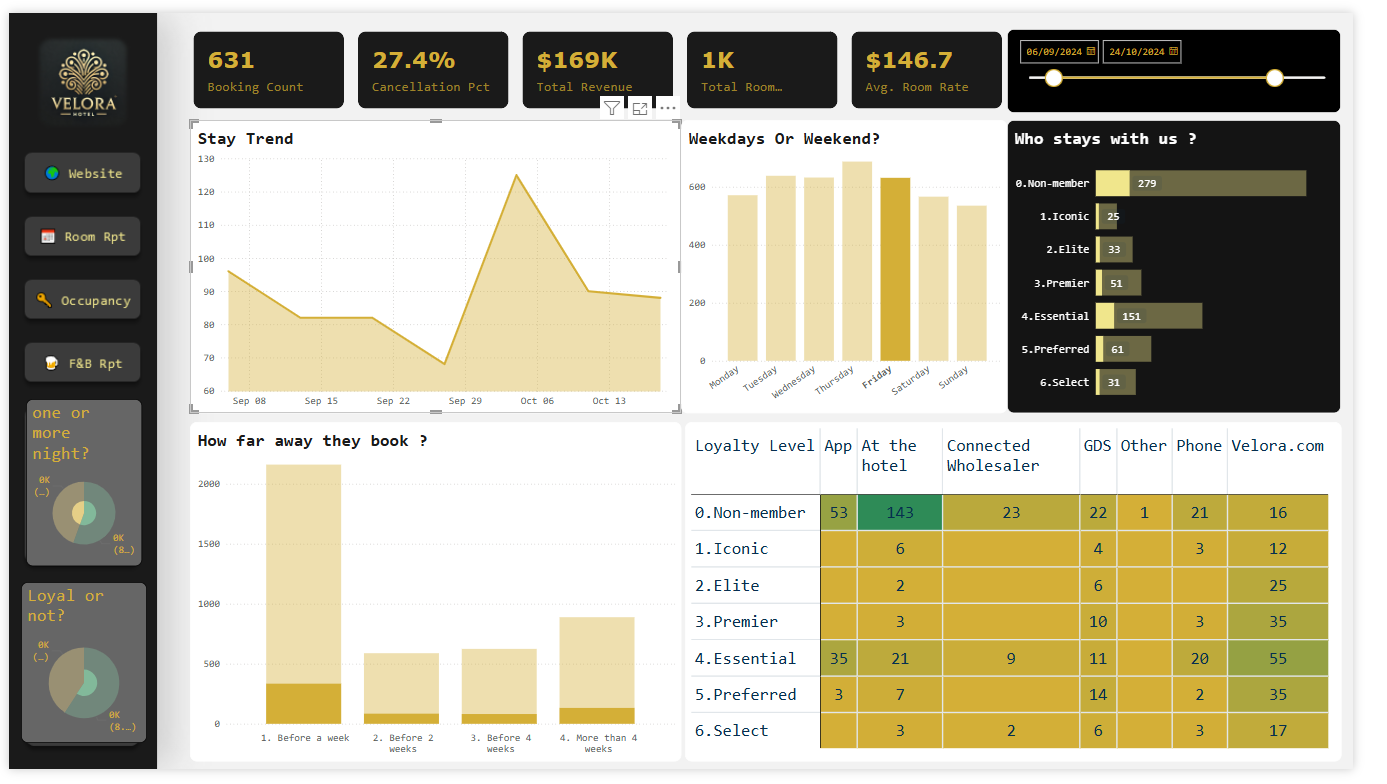

What the dashboard file says about the page in this screenshot:
{"tool":"powerbi","page":{"name":"Bookings Report BLANK","canvas":[1920,1080],"ordinal":0},"visuals":[{"type":"cardVisual","fields":{"Data":["bookings.Booking Count","bookings.Cancellation Pct","bookings.Total Revenue","bookings.Total Room Nights","bookings.Avg. Room Rate"]},"box":[258,22,1168,120],"z":0},{"type":"lineChart","title":"Stay Trend","fields":{"Category":["bookings.Stay Date"],"Y":["bookings.Booking Count"]},"box":[258,153,702.3,419],"z":1000},{"type":"slicer","fields":{"Values":["bookings.Stay Date"]},"box":[1425.8,22.6,477.5,119.7],"z":2000},{"type":"clusteredColumnChart","title":"Weekdays Or Weekend?","fields":{"Category":["bookings.Day Name"],"Y":["CountNonNull(bookings.Booking Date)"]},"box":[960.3,153,465.5,419],"z":3000},{"type":"clusteredBarChart","title":"Who stays with us ?","fields":{"Category":["bookings.Loyalty Level"],"Y":["bookings.Booking Count"]},"box":[1425.8,153,477.5,419],"z":4000},{"type":"clusteredColumnChart","title":"How far away they book ?","fields":{"Category":["bookings.How far away bucket"],"Y":["bookings.Booking Count"]},"box":[258,583.9,702.3,485.5],"z":5000},{"type":"pivotTable","fields":{"Rows":["bookings.Loyalty Level"],"Columns":["bookings.Booking Channel"],"Values":["bookings.Booking Count"]},"box":[965.6,583.9,937.7,485.5],"z":6000},{"type":"pieChart","title":"one or more night?","fields":{"Y":["bookings.Multi-night booking count","bookings.Single night booking count"]},"box":[23.9,552,166.3,239.4],"z":7000},{"type":"pieChart","title":"Loyal or not?","fields":{"Y":["bookings.Loyal Customer Booking Count","bookings.Not Loyal Customer Booking Count"]},"box":[17.3,816.7,179.6,230.1],"z":8000}]}

Visuals, with their boxes in screenshot pixels (x1, y1, x2, y2):
cardVisual - bookings.Booking Count x bookings.Cancellation Pct: crop(203, 26, 1005, 108)
"Stay Trend" lineChart: crop(203, 116, 685, 404)
slicer - bookings.Stay Date: crop(1005, 26, 1333, 109)
"Weekdays Or Weekend?" clusteredColumnChart: crop(685, 116, 1005, 404)
"Who stays with us ?" clusteredBarChart: crop(1005, 116, 1333, 404)
"How far away they book ?" clusteredColumnChart: crop(203, 412, 685, 746)
pivotTable - bookings.Loyalty Level x bookings.Booking Channel: crop(689, 412, 1333, 746)
"one or more night?" pieChart: crop(42, 390, 156, 555)
"Loyal or not?" pieChart: crop(37, 572, 161, 730)
